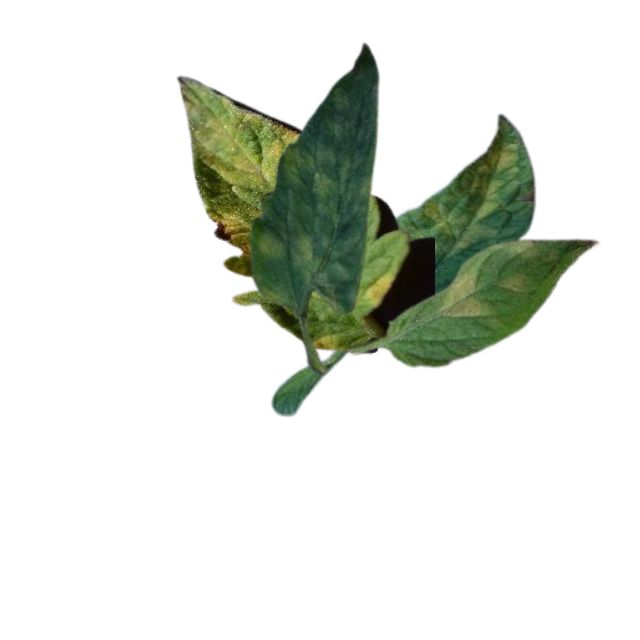Leaf_Mold: (264, 62, 371, 312), (173, 71, 300, 204), (421, 136, 517, 248), (206, 205, 251, 262), (439, 270, 487, 319), (361, 268, 398, 308), (494, 270, 530, 293), (310, 328, 340, 350)
